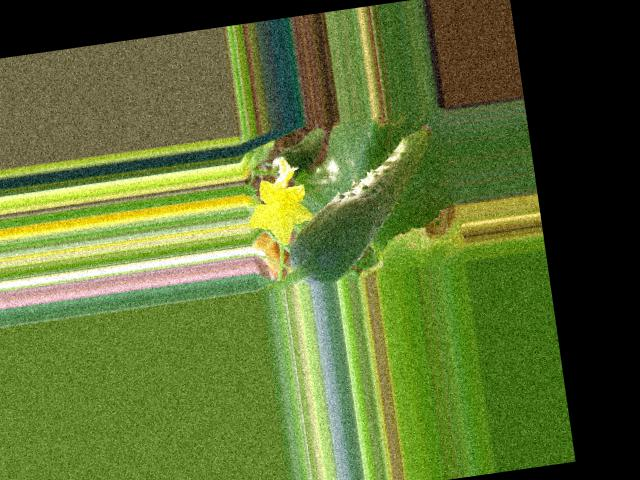cucumber: (273, 123, 449, 287)
